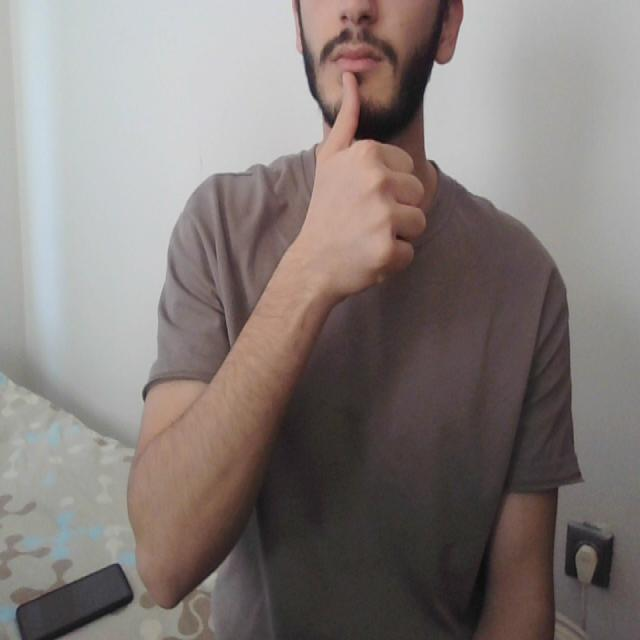Baba: (327, 30, 385, 133)
